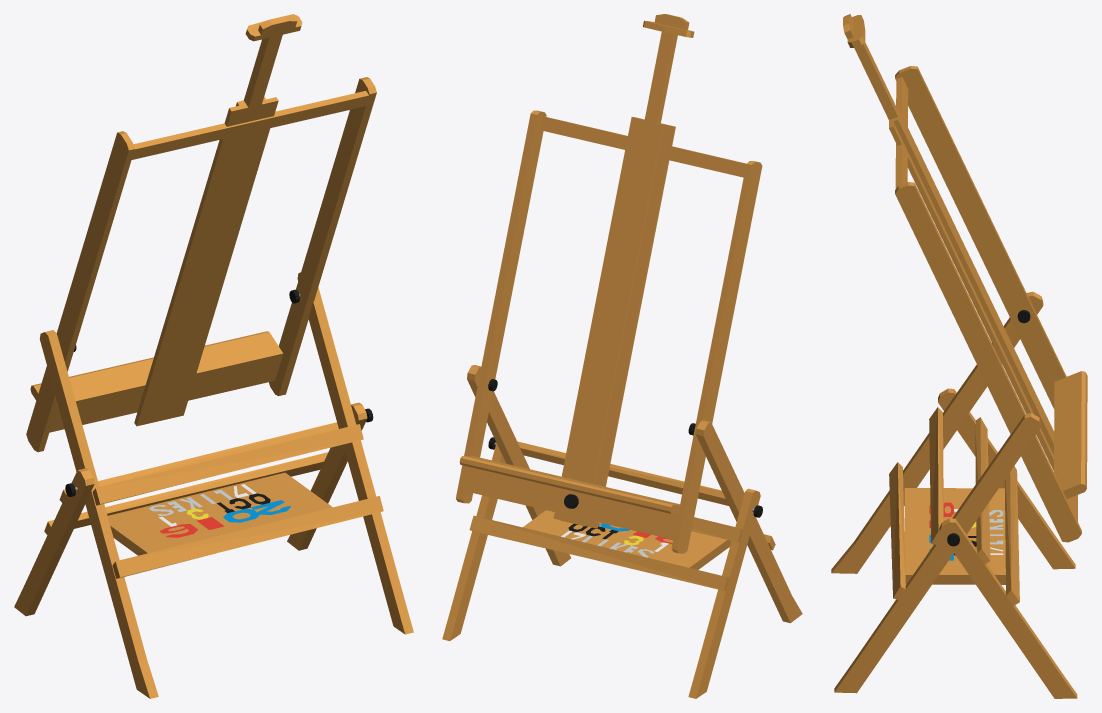
Rendered from PaintStand.glb.
3 renders of one model, left to right at view 1: azimuth 30°, elevation 25°; view 2: azimuth 150°, elevation 25°; view 3: azimuth 270°, elevation 25°, orthographic. The views are drawn at different scales.
Visible parts, largest first — view 1: group2057019166, group711374849, group130527817, group463602206, group1753417451, group231111647, group1521299191, group377033955, group823904552, group1092065672, group1160160456, group1894923996 (+3 smaller); view 2: group2057019166, group130527817, group1753417451, group1894923996, group711374849, group346948902, group463602206, group1160160456, group1521299191, group1092065672, group74620784, group231111647 (+2 smaller); view 3: group130527817, group1753417451, group2057019166, group231111647, group711374849, group463602206, group74620784, group1521299191, group1160160456, group377033955, group346948902, group823904552 (+3 smaller).
Boxes of the visible parts, x1=… form: group2057019166: x1=134, y1=34, x2=282, y2=426; group711374849: x1=107, y1=472, x2=332, y2=555; group130527817: x1=26, y1=131, x2=134, y2=452; group463602206: x1=39, y1=330, x2=158, y2=698; group1753417451: x1=269, y1=77, x2=376, y2=395; group231111647: x1=297, y1=272, x2=413, y2=634; group1521299191: x1=30, y1=331, x2=283, y2=412; group377033955: x1=112, y1=496, x2=383, y2=578; group823904552: x1=92, y1=424, x2=363, y2=505; group1092065672: x1=131, y1=91, x2=368, y2=159; group1160160456: x1=14, y1=468, x2=94, y2=616; group1894923996: x1=49, y1=360, x2=280, y2=432; group2057019166: x1=553, y1=31, x2=677, y2=528; group130527817: x1=671, y1=161, x2=762, y2=553; group1753417451: x1=456, y1=110, x2=546, y2=503; group1894923996: x1=464, y1=467, x2=677, y2=539; group711374849: x1=523, y1=510, x2=731, y2=569; group346948902: x1=469, y1=515, x2=729, y2=590; group463602206: x1=695, y1=420, x2=802, y2=623; group1160160456: x1=688, y1=488, x2=760, y2=698; group1521299191: x1=459, y1=456, x2=680, y2=514; group1092065672: x1=541, y1=116, x2=746, y2=177; group74620784: x1=442, y1=443, x2=505, y2=641; group231111647: x1=467, y1=365, x2=570, y2=566; group130527817: x1=895, y1=66, x2=1066, y2=408; group1753417451: x1=895, y1=182, x2=1081, y2=542; group2057019166: x1=854, y1=42, x2=1053, y2=470; group231111647: x1=834, y1=413, x2=1040, y2=693; group711374849: x1=904, y1=488, x2=1005, y2=584; group463602206: x1=831, y1=291, x2=1043, y2=573; group74620784: x1=939, y1=518, x2=1077, y2=698; group1521299191: x1=1054, y1=371, x2=1087, y2=498; group1160160456: x1=938, y1=388, x2=1075, y2=569; group377033955: x1=889, y1=462, x2=905, y2=599; group346948902: x1=1004, y1=466, x2=1019, y2=605; group823904552: x1=929, y1=407, x2=943, y2=544.
Bounding box in the file's own units: 2.07 × 4.24 × 1.6.
